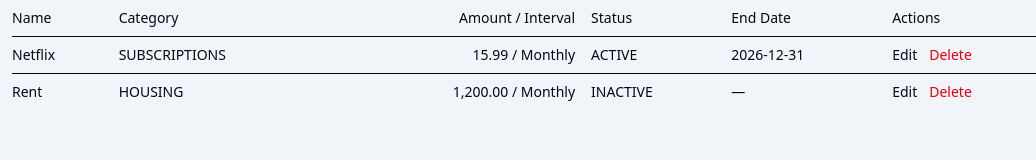
ContractTable – inline delete confirmation › shows Confirm and Cancel buttons after clicking Delete
The image size is (1036, 160).
Click the button "Delete" in the row of "Netflix". click: (950, 55)
box: 929,45 -> 972,65
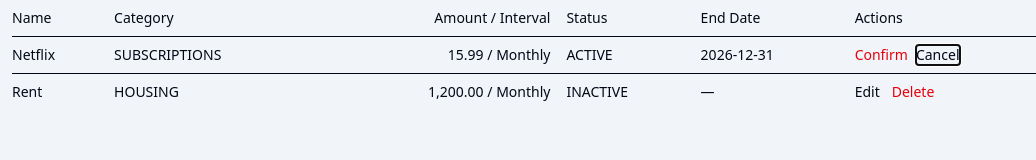
Expected: the button "Confirm" is shown, 855,45 -> 908,65
Expected: the button "Cancel" is shown, 916,45 -> 960,65
